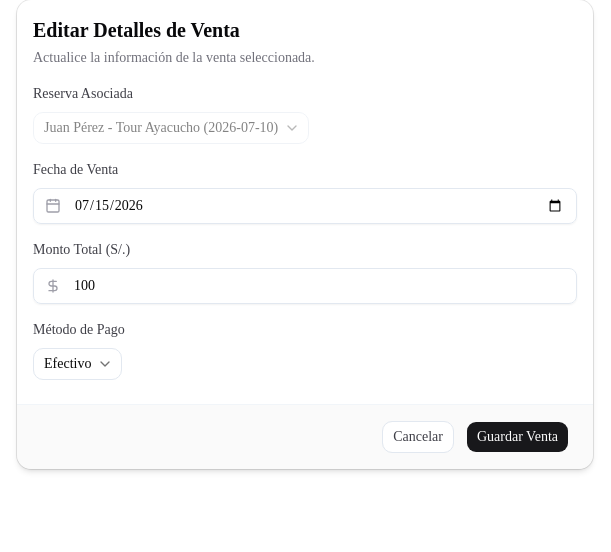
it: SaleForm › muestra error si el submit falla
Click the button "Guardar Venta". click: [518, 437]
box: x1=466 y1=421 x2=569 y2=453
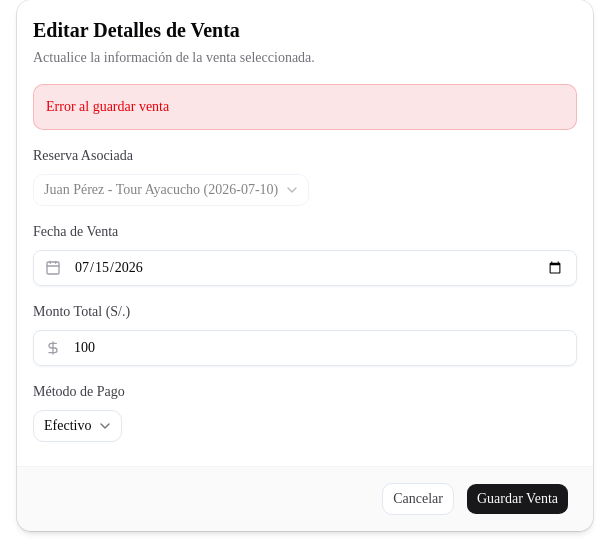
Expected: the text "Error al guardar venta" is shown, x1=33 y1=84 x2=577 y2=130
